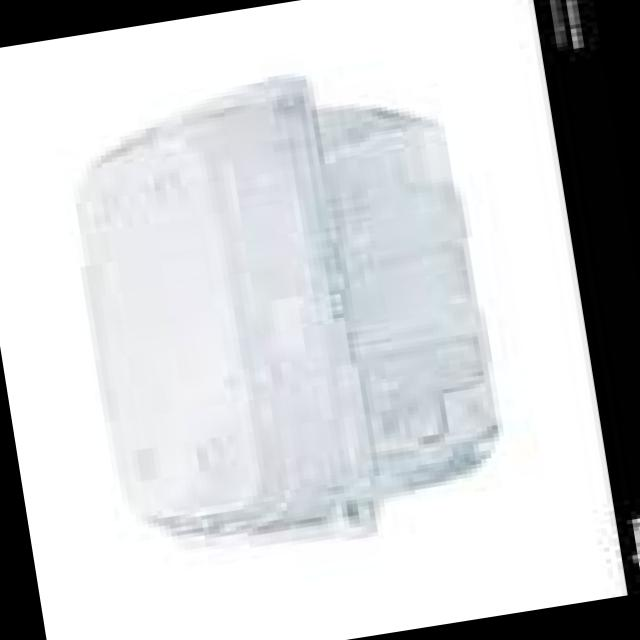Clamshell: (35, 34, 527, 584)
